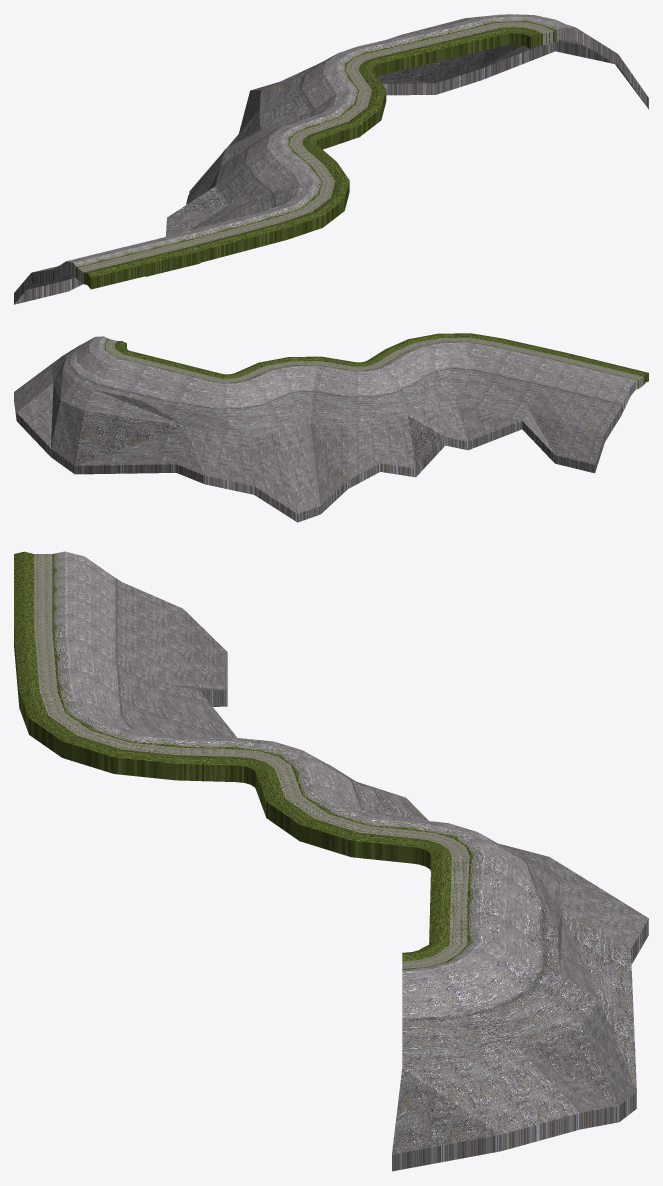
The model's file is lod_rock_coastsfw3.obj.
3 renders of one model, top to bottom at view 1: azimuth 30°, elevation 25°; view 2: azimuth 150°, elevation 25°; view 3: azimuth 270°, elevation 25°, orthographic. The views are drawn at different scales.
Visible parts, largest first — view 1: lod_rock_coastSFW3; view 2: lod_rock_coastSFW3; view 3: lod_rock_coastSFW3.
Boxes of the visible parts, x1,y1,x2,y2 form: lod_rock_coastSFW3: [14, 14, 648, 304]; lod_rock_coastSFW3: [14, 333, 648, 522]; lod_rock_coastSFW3: [14, 551, 648, 1171].
Bounding box in the file's own units: 253 × 47.55 × 141.
Materials: 6 (6 with a texture image).
